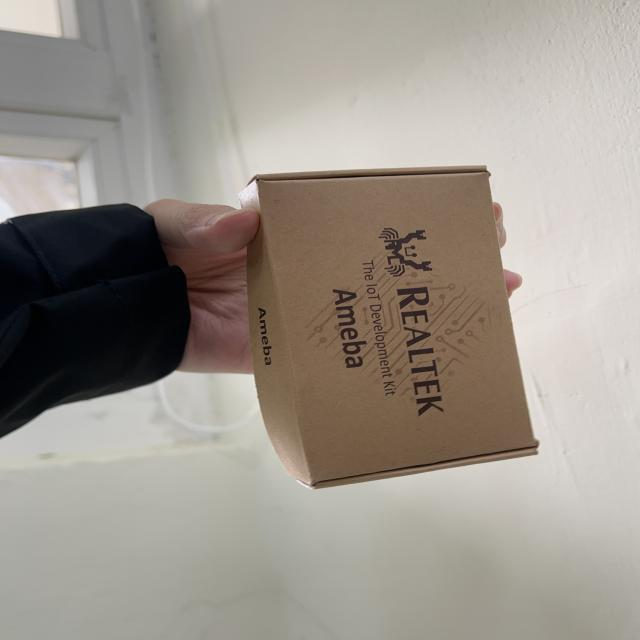box: (202, 154, 569, 514)
